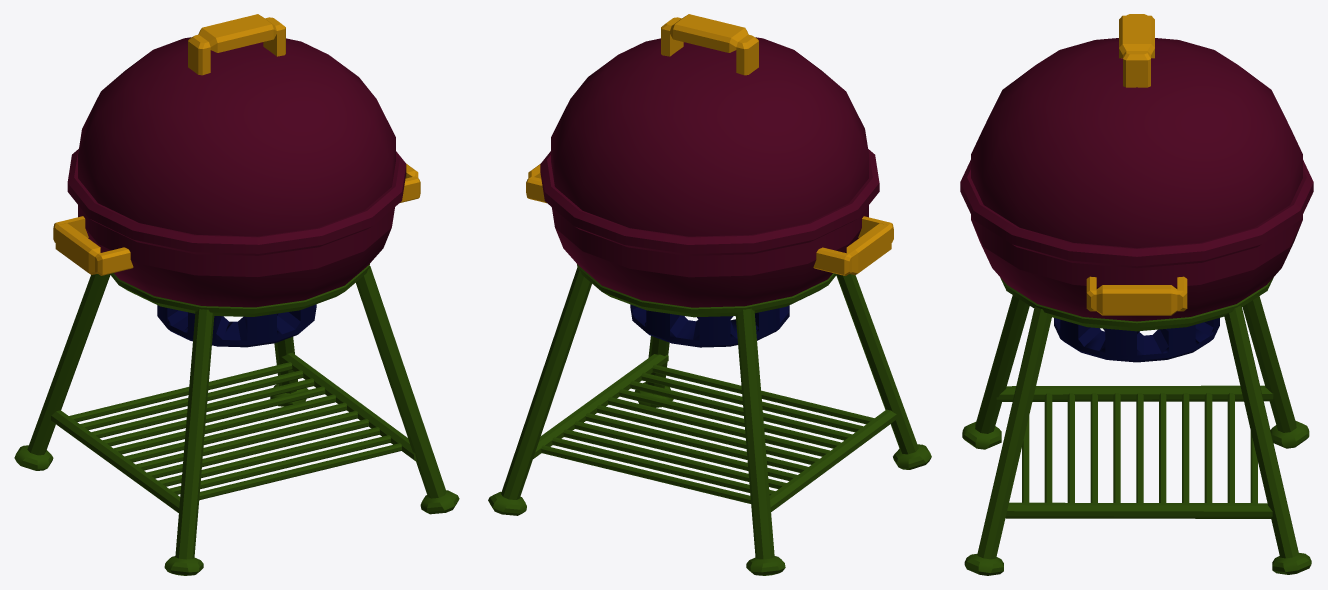
The model's file is Brazier.FBX.
The picture shows the model from 3 angles, left to right: view 1: azimuth 30°, elevation 25°; view 2: azimuth 150°, elevation 25°; view 3: azimuth 270°, elevation 25°; orthographic projection. The views are drawn at different scales.
Parts seen in each view (by area): view 1: Brazier; view 2: Brazier; view 3: Brazier.
Part boxes in pixels (bbox=[...]): Brazier: bbox=[14, 14, 459, 575]; Brazier: bbox=[488, 14, 931, 575]; Brazier: bbox=[960, 14, 1313, 575].
Size of the model in its own units: 755 by 677 by 1012.
